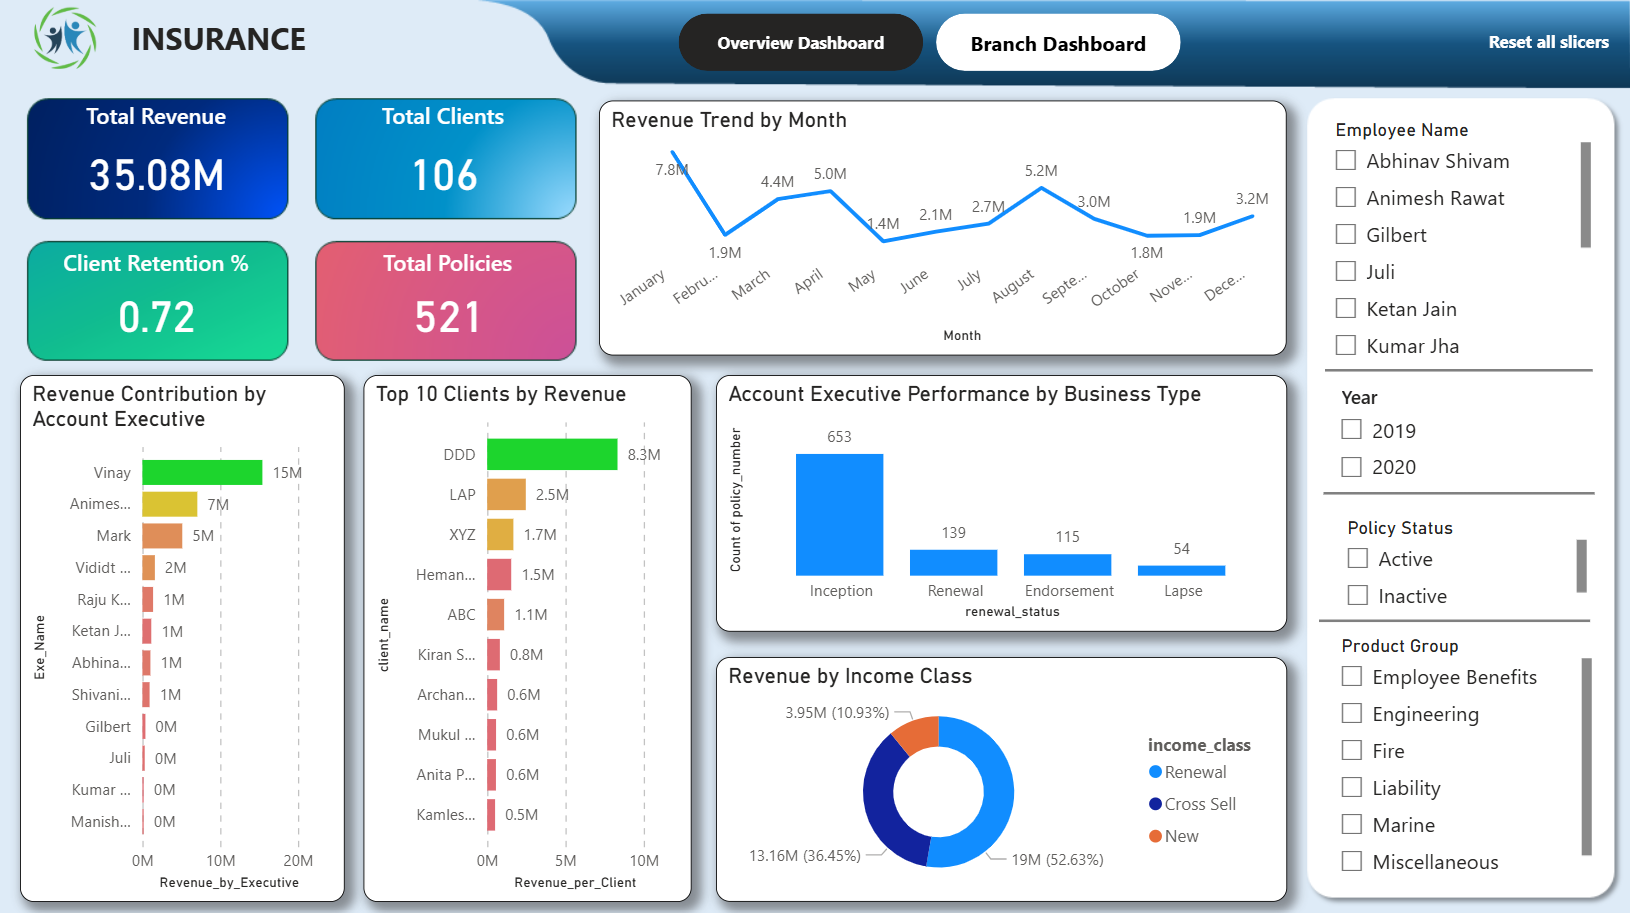

Layout of this report page (visuals, bound fields, positions):
{"tool":"powerbi","page":{"name":"Overview Dashboard","canvas":[1280,720],"ordinal":0},"visuals":[{"type":"card","title":"Total Revenue","fields":{"Values":["Calculations.Total Revenue"]},"box":[27.3,78.7,192.3,92.4],"z":0},{"type":"card","title":"Total Clients","fields":{"Values":["Calculations.Total_Clients"]},"box":[252.9,78.7,190.8,92.4],"z":1000},{"type":"donutChart","title":"Revenue by Income Class","fields":{"Y":["Calculations.Total Revenue"],"Category":["brokerage.income_class"]},"box":[561.8,514.8,448.2,192.3],"z":2000},{"type":"clusteredBarChart","title":"Top 10 Clients by Revenue","fields":{"Category":["brokerage.client_name"],"Y":["Calculations.Revenue_per_Client"]},"box":[286.2,293.8,257.4,413.4],"z":3000},{"type":"clusteredColumnChart","title":"Account Executive Performance by Business Type","fields":{"Category":["brokerage.renewal_status"],"Y":["brokerage.policy_number"]},"box":[561.8,293.8,448.2,201.4],"z":4000},{"type":"clusteredBarChart","title":"Revenue Contribution by Account Executive","fields":{"Category":["brokerage.Exe_Name"],"Y":["Calculations.Revenue_by_Executive"]},"box":[16.7,293.8,254.4,413.4],"z":5000},{"type":"lineChart","title":"Revenue Trend by Month","fields":{"Y":["Calculations.Total Revenue"],"Category":["brokerage.policy_start_date.Variation.Date Hierarchy.Month"]},"box":[470.9,78.7,539.1,199.9],"z":6000},{"type":"card","title":"Client Retention %","fields":{"Values":["Calculations.Client_Retention_%"]},"box":[27.3,193.8,192.3,84.8],"z":7000},{"type":"card","title":"Total Policies","fields":{"Values":["Calculations.Total Policies"]},"box":[255.9,193.8,190.8,84.8],"z":8000},{"type":"pageNavigator","box":[533,10.6,395.2,45.4],"z":12000},{"type":"image","box":[17.5,0,68.4,58.9],"z":13000},{"type":"textbox","box":[98.6,8,299,44.5],"z":14000},{"type":"actionButton","box":[1158.4,3,113.6,56],"z":15000},{"type":"slicer","fields":{"Values":["brokerage.Exe_Name"]},"box":[1035.7,88.6,218.6,198.6],"z":15001},{"type":"slicer","fields":{"Values":["invoice.invoice_date.Variation.Date Hierarchy.Year"]},"box":[1040,295.7,210,91.4],"z":15002},{"type":"shape","box":[1040,284.3,210,11.4],"z":15003},{"type":"shape","box":[1038.6,381.4,212.9,11.4],"z":15004},{"type":"slicer","fields":{"Values":["brokerage.product_group"]},"box":[1040,492.9,214.3,205.7],"z":15005},{"type":"slicer","fields":{"Values":["brokerage.policy_status"]},"box":[1044.3,400,205.7,81.4],"z":15006},{"type":"shape","box":[1035.7,481.4,212.9,11.4],"z":15007}]}

Visuals, with their boxes in screenshot pixels (x1, y1, x2, y2), scaled from the page's 1280x720 canvas onto the 1630x913 screenshot:
"Total Revenue" card: <bbox>35, 100, 280, 217</bbox>
"Total Clients" card: <bbox>322, 100, 565, 217</bbox>
"Revenue by Income Class" donutChart: <bbox>715, 653, 1286, 897</bbox>
"Top 10 Clients by Revenue" clusteredBarChart: <bbox>364, 373, 692, 897</bbox>
"Account Executive Performance by Business Type" clusteredColumnChart: <bbox>715, 373, 1286, 628</bbox>
"Revenue Contribution by Account Executive" clusteredBarChart: <bbox>21, 373, 345, 897</bbox>
"Revenue Trend by Month" lineChart: <bbox>600, 100, 1286, 353</bbox>
"Client Retention %" card: <bbox>35, 246, 280, 353</bbox>
"Total Policies" card: <bbox>326, 246, 569, 353</bbox>
pageNavigator: <bbox>679, 13, 1182, 71</bbox>
image: <bbox>22, 0, 109, 75</bbox>
textbox: <bbox>126, 10, 506, 67</bbox>
actionButton: <bbox>1475, 4, 1620, 75</bbox>
slicer - brokerage.Exe_Name: <bbox>1319, 112, 1597, 364</bbox>
slicer - invoice.invoice_date.Variation.Date Hierarchy.Year: <bbox>1324, 375, 1592, 491</bbox>
shape: <bbox>1324, 361, 1592, 375</bbox>
shape: <bbox>1323, 484, 1594, 498</bbox>
slicer - brokerage.product_group: <bbox>1324, 625, 1597, 886</bbox>
slicer - brokerage.policy_status: <bbox>1330, 507, 1592, 610</bbox>
shape: <bbox>1319, 610, 1590, 625</bbox>
